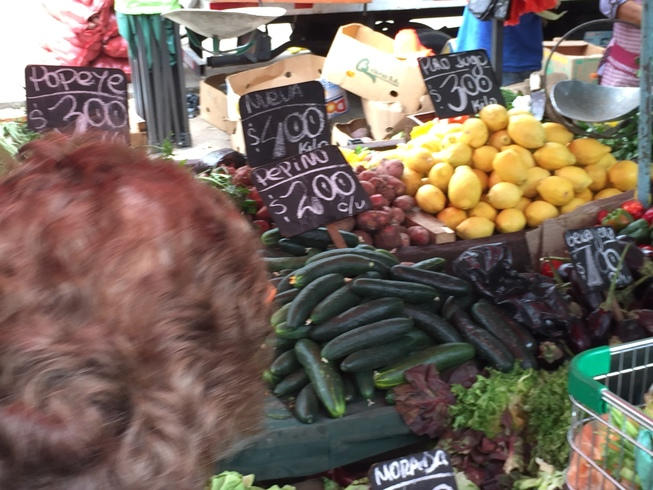precio: (26, 59, 137, 156), (260, 141, 371, 231), (235, 77, 339, 157), (412, 50, 515, 119), (562, 220, 633, 297), (364, 450, 473, 490)
